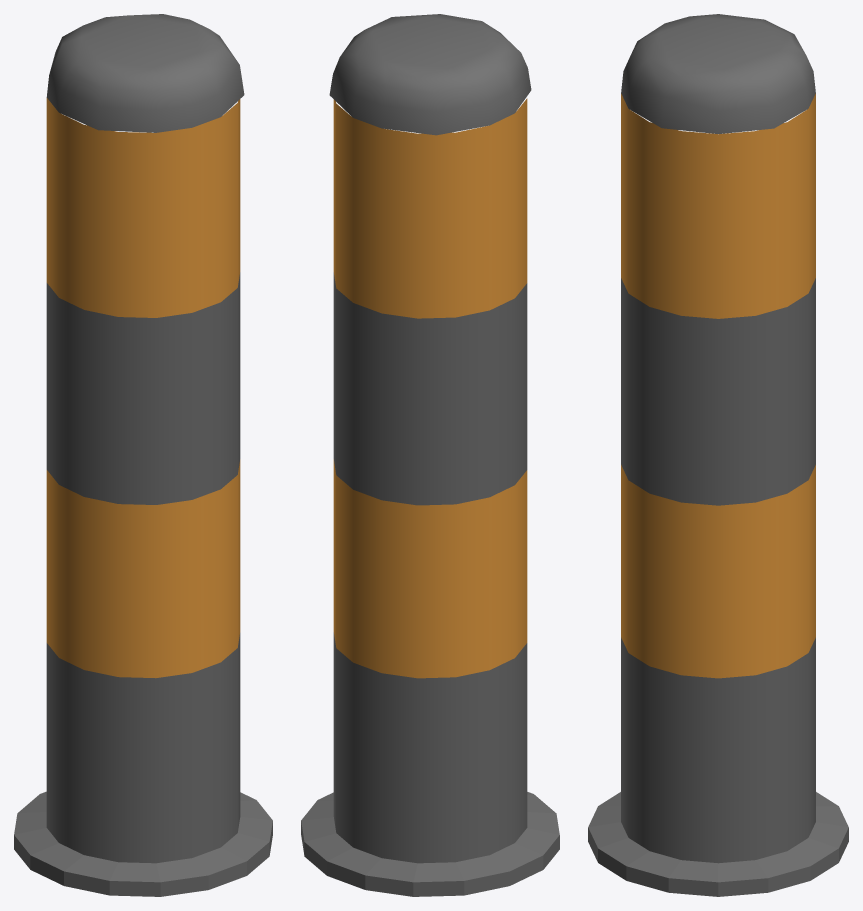
File: SM_Signboard_8.glb
3 renders of one model, left to right at view 1: azimuth 30°, elevation 25°; view 2: azimuth 150°, elevation 25°; view 3: azimuth 270°, elevation 25°, orthographic.
Parts seen in each view (by area): view 1: SM_Signboard_8; view 2: SM_Signboard_8; view 3: SM_Signboard_8.
Boxes of the visible parts, x1,y1,x2,y2 form: SM_Signboard_8: (14,14,272,896); SM_Signboard_8: (301,14,559,896); SM_Signboard_8: (588,14,848,896).
Bounding box in the file's own units: 0.1338 × 0.4525 × 0.1338.
